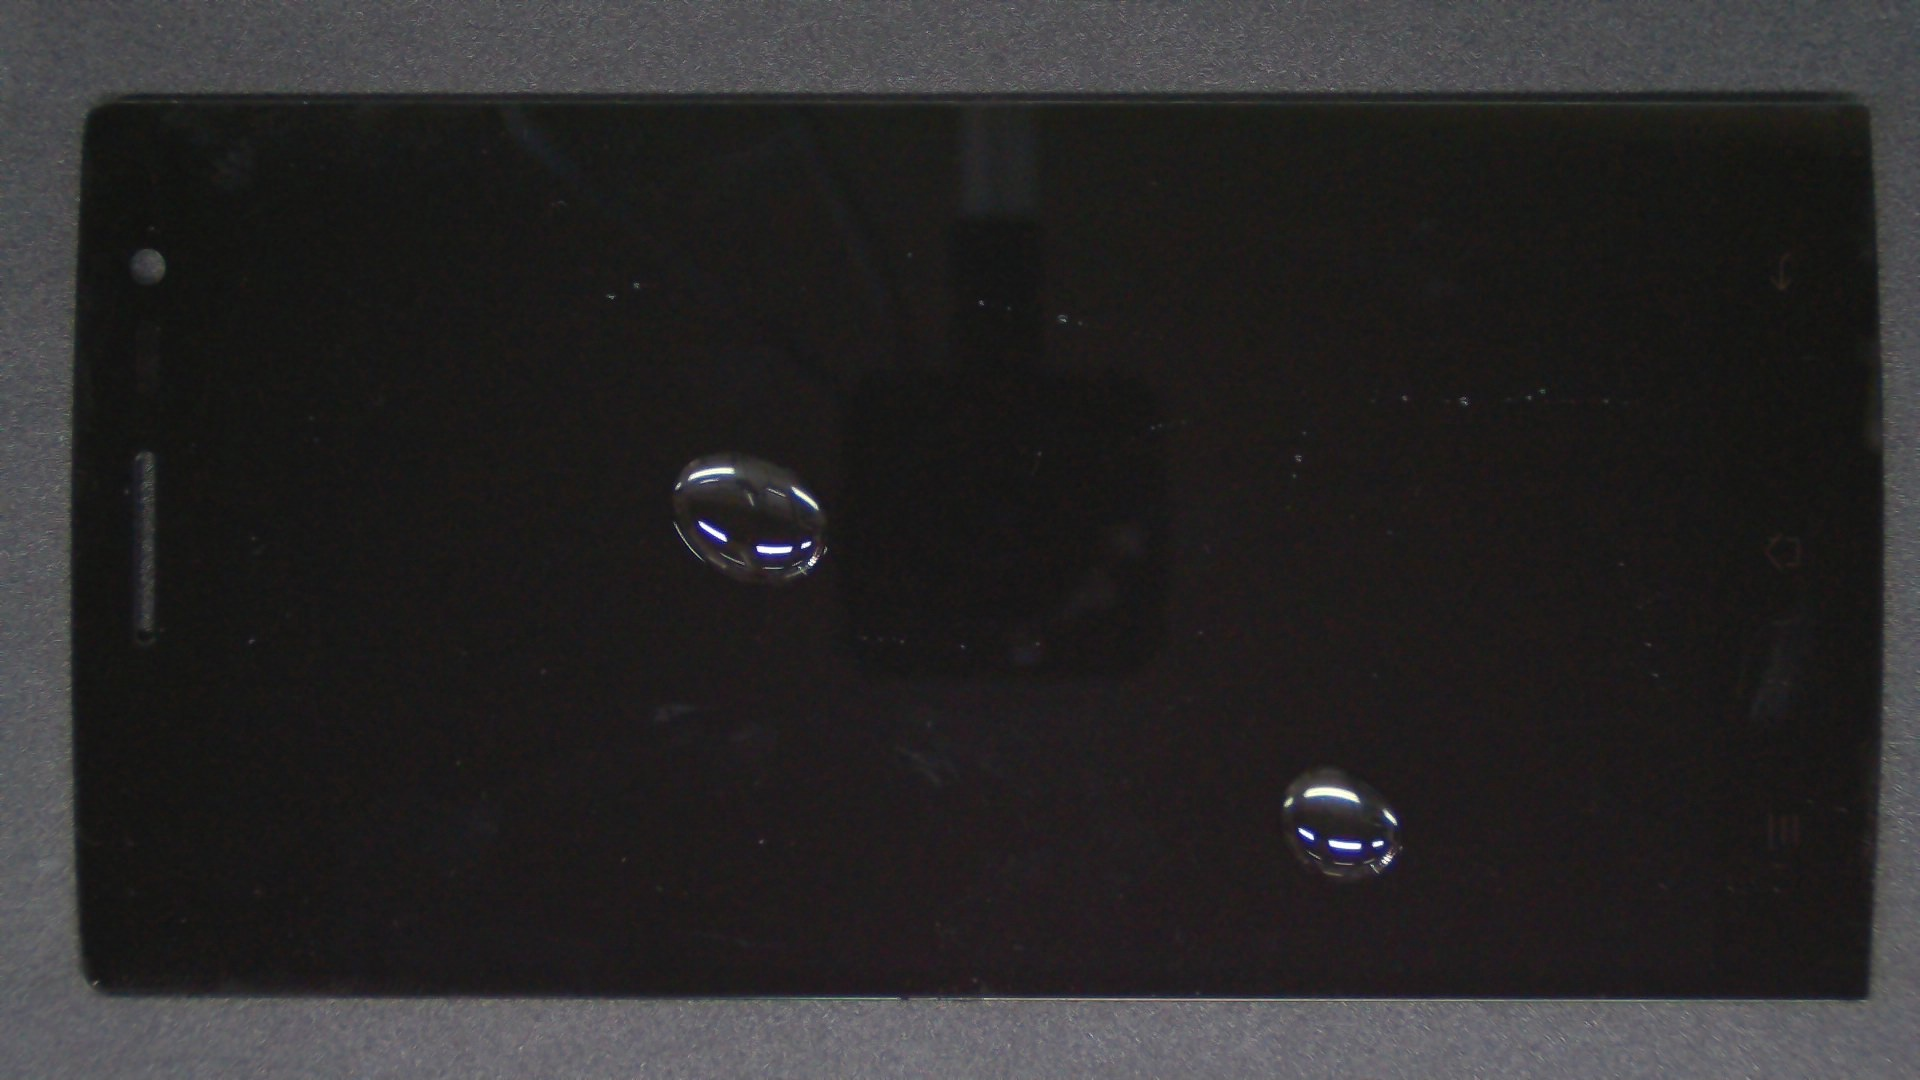oil: (661, 384, 1920, 1080), (363, 225, 1087, 679)
